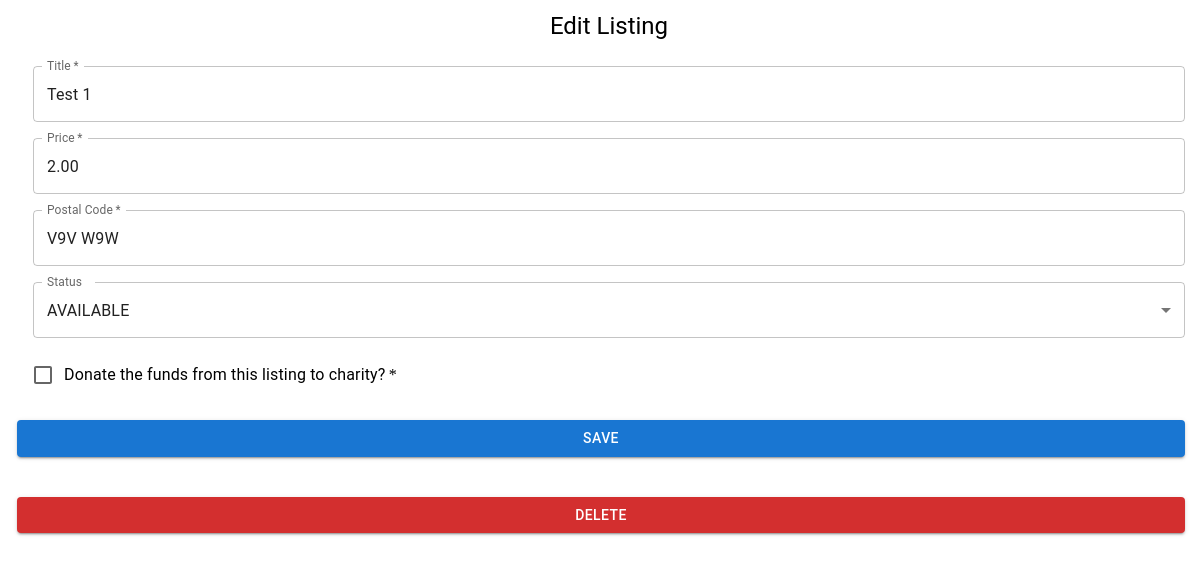
it: ManageListing page › validation on an invalid price
Replace the text in the field labelled "Price *" with "invalid" at (609, 166), box [33,138,1185,194]
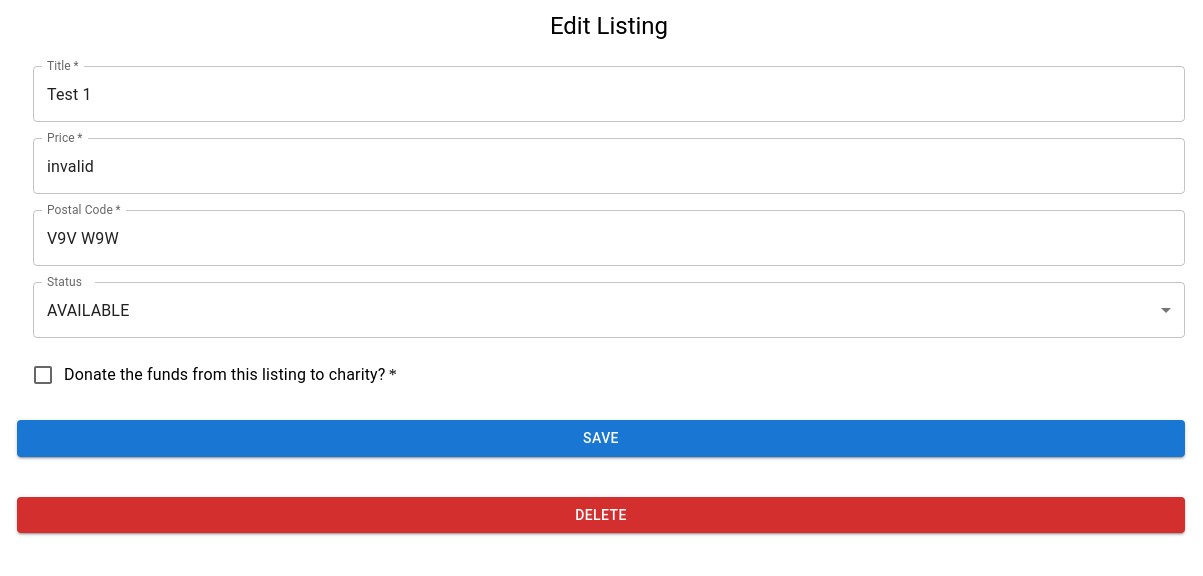
Leave the field labelled "Price *", box [33,138,1185,194]
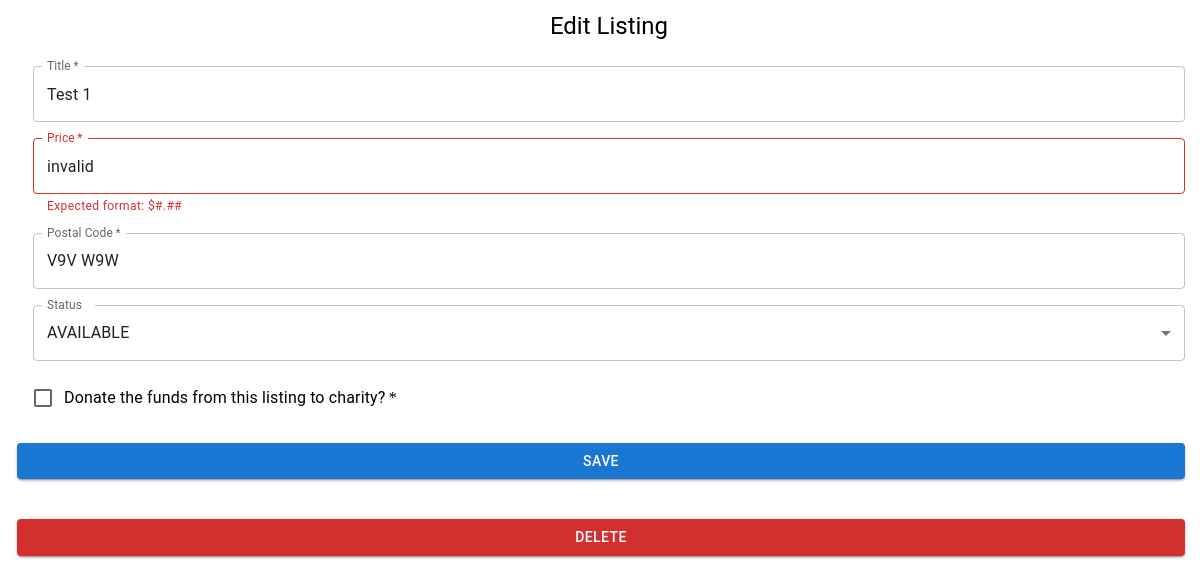
Expected: the text "Expected format: $#.##" is shown, [47,199,182,213]
